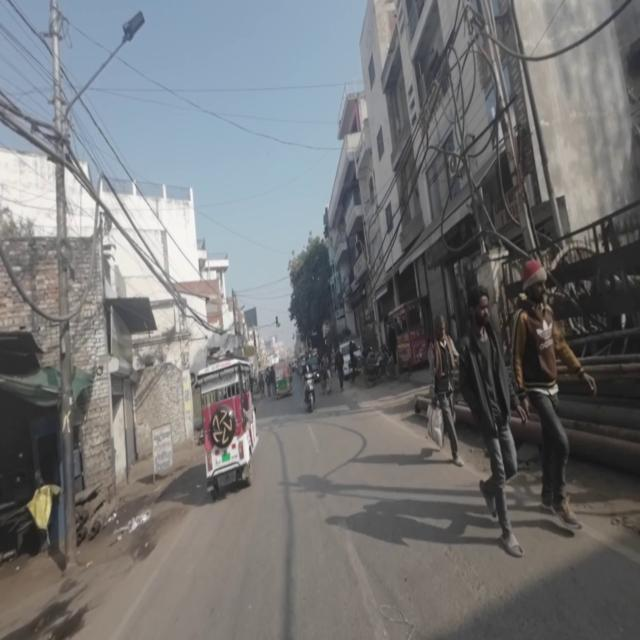Garbage: (121, 509, 156, 535)
